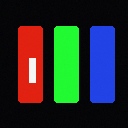4 line_v: (29, 58, 35, 82)
